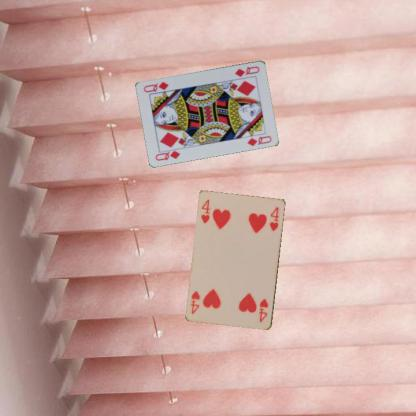4h: (257, 296, 269, 324), (199, 197, 211, 225)
Qd: (153, 145, 183, 162), (232, 64, 261, 78)
